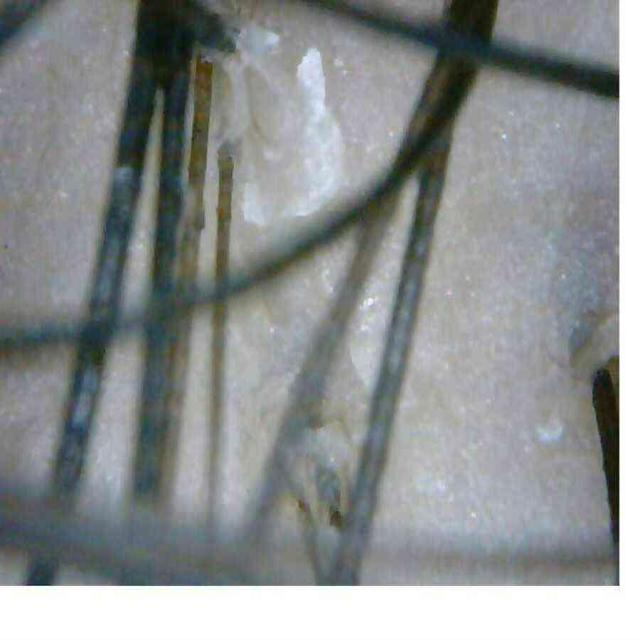d: (296, 48, 341, 214), (296, 48, 325, 118), (242, 182, 265, 226)
ds: (210, 48, 255, 159), (236, 22, 282, 68), (535, 422, 564, 443)
